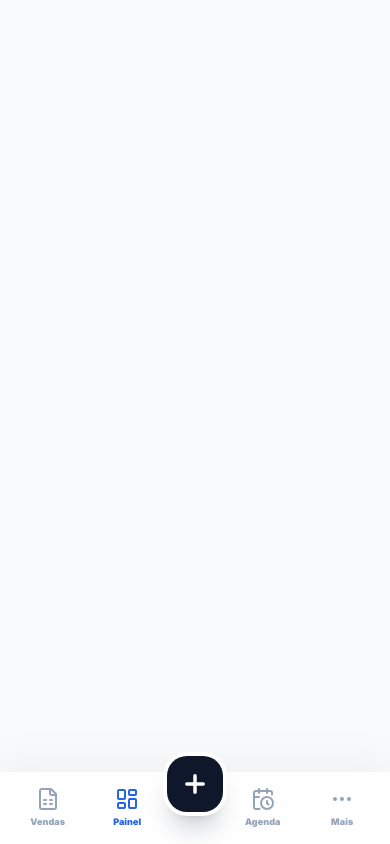
Test case: BottomNav › gives admins the store admin inside Mais, without payment diagnostics
Click the button with aria-label "Mais módulos" at (342, 808), box left=302, top=772, right=382, bottom=843
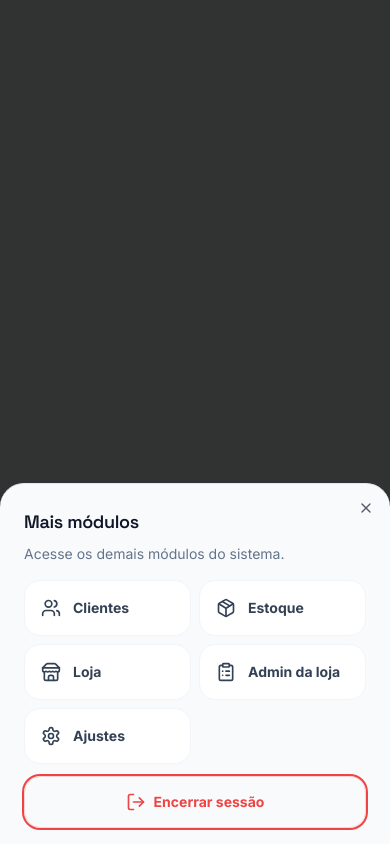
Expected: the link "Admin da loja" is shown, left=199, top=644, right=366, bottom=700
